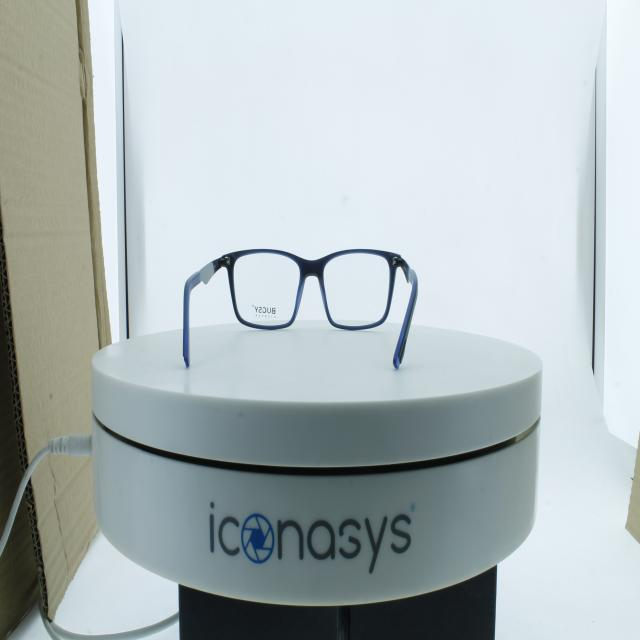Specs: (168, 220, 433, 384)
